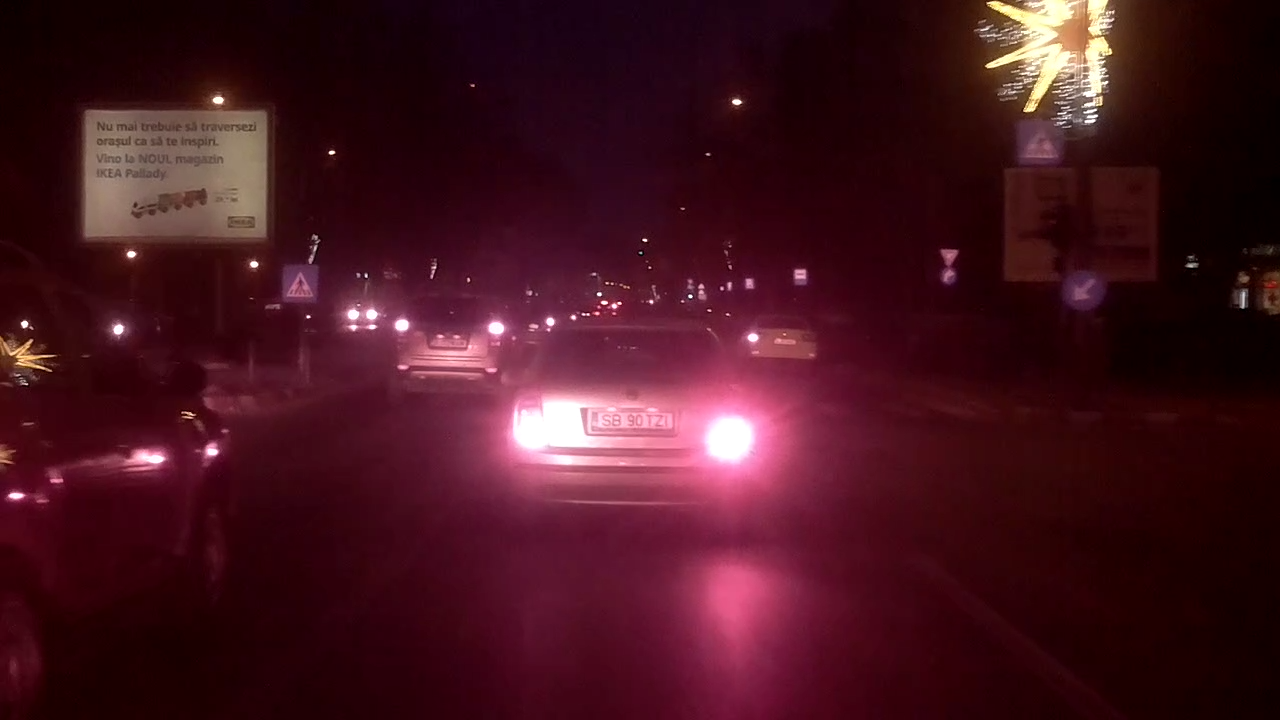license-plate: (586, 408, 676, 431)
